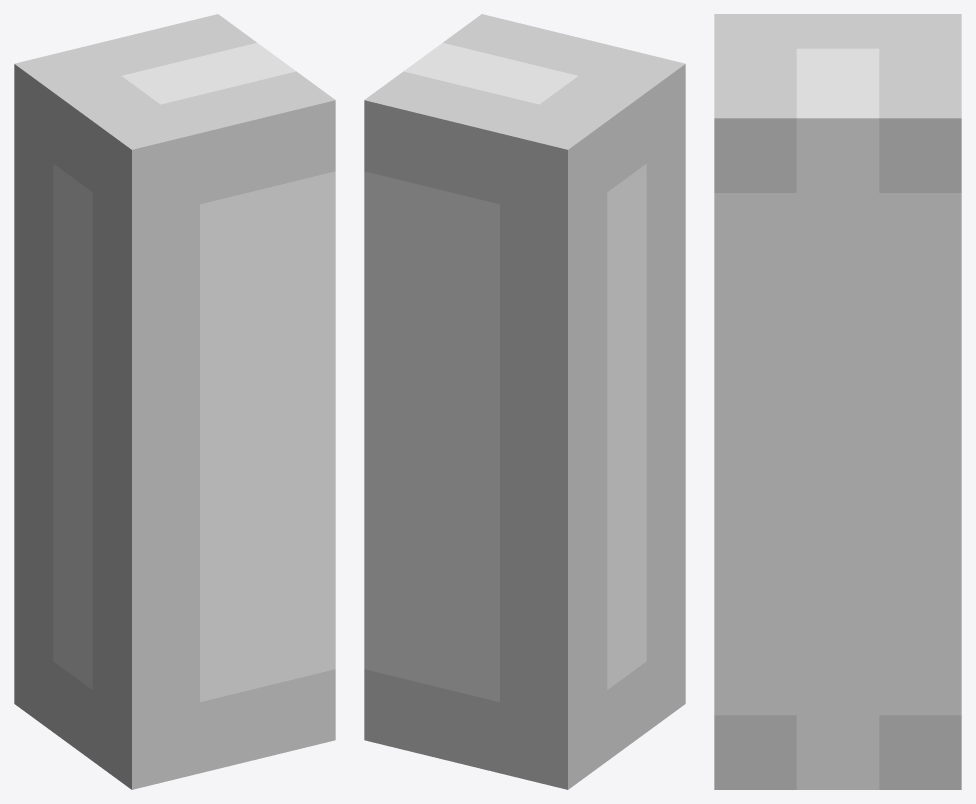
Rendered from player-3.obj.
3 renders of one model, left to right at view 1: azimuth 30°, elevation 25°; view 2: azimuth 150°, elevation 25°; view 3: azimuth 270°, elevation 25°, orthographic. The views are drawn at different scales.
Bounding box in the file's own units: 0.3 × 0.9 × 0.3.
Materials: 1 (1 with a texture image).
